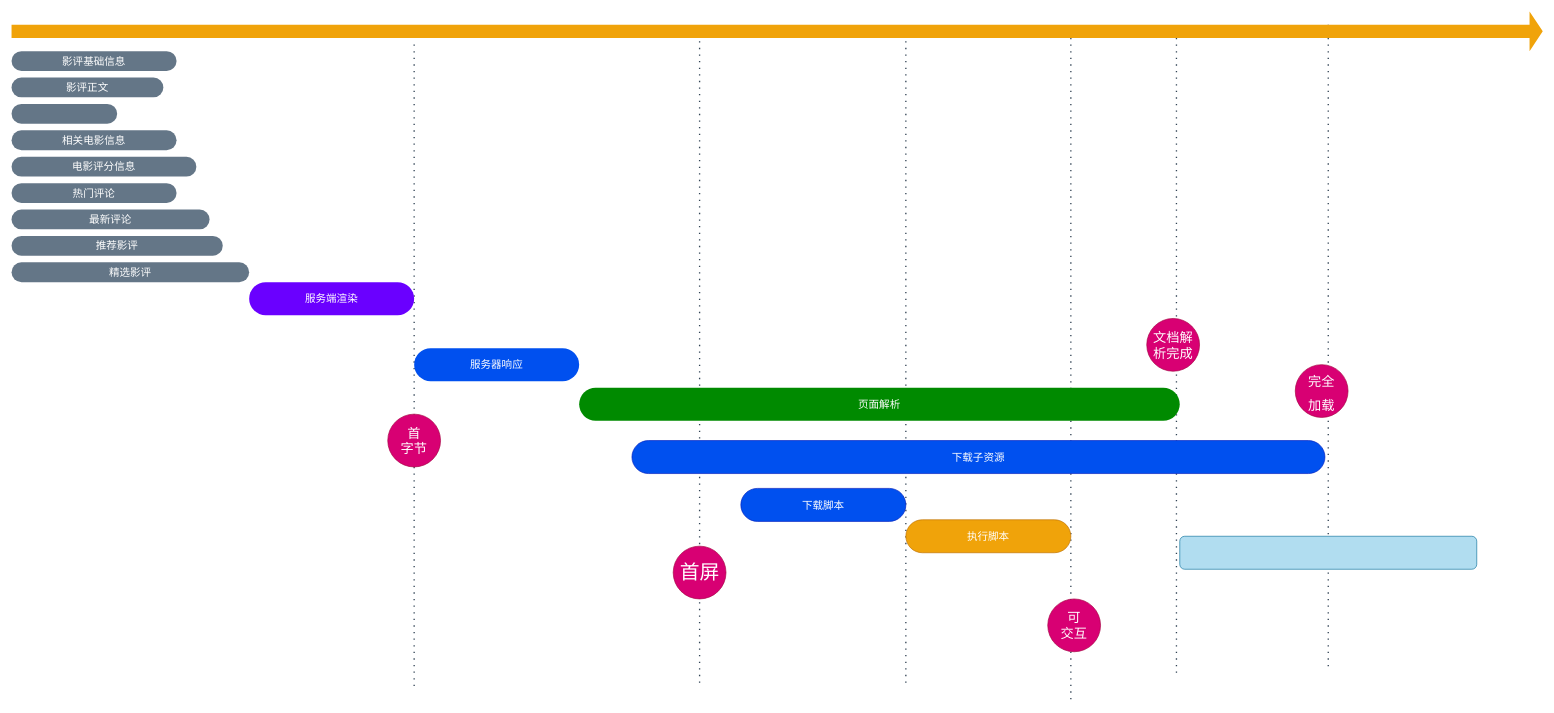
This 1554x713 diagram has some shape labels left out. Here are the shapes that lost their labels. From the top down, the centre of each, then its label:
At pixel 64 113: "运营配置".
At pixel 1328 552: "空闲".
